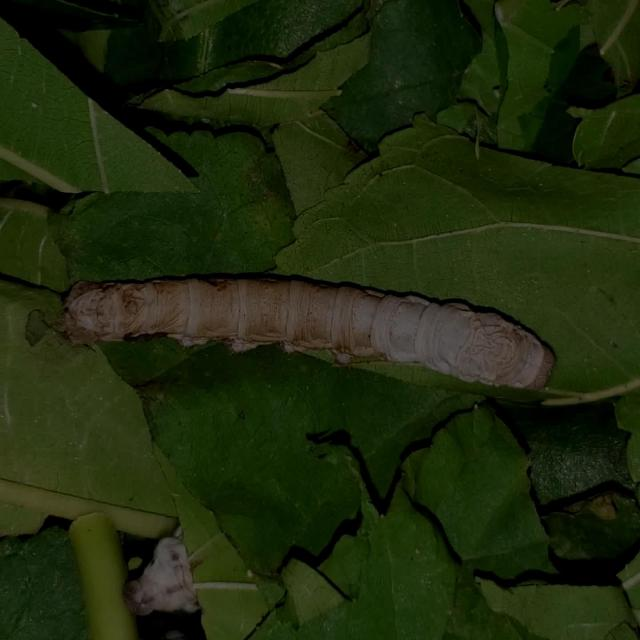Grasserie: (38, 243, 568, 424)
